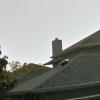Chimney: (44, 29, 66, 62)
